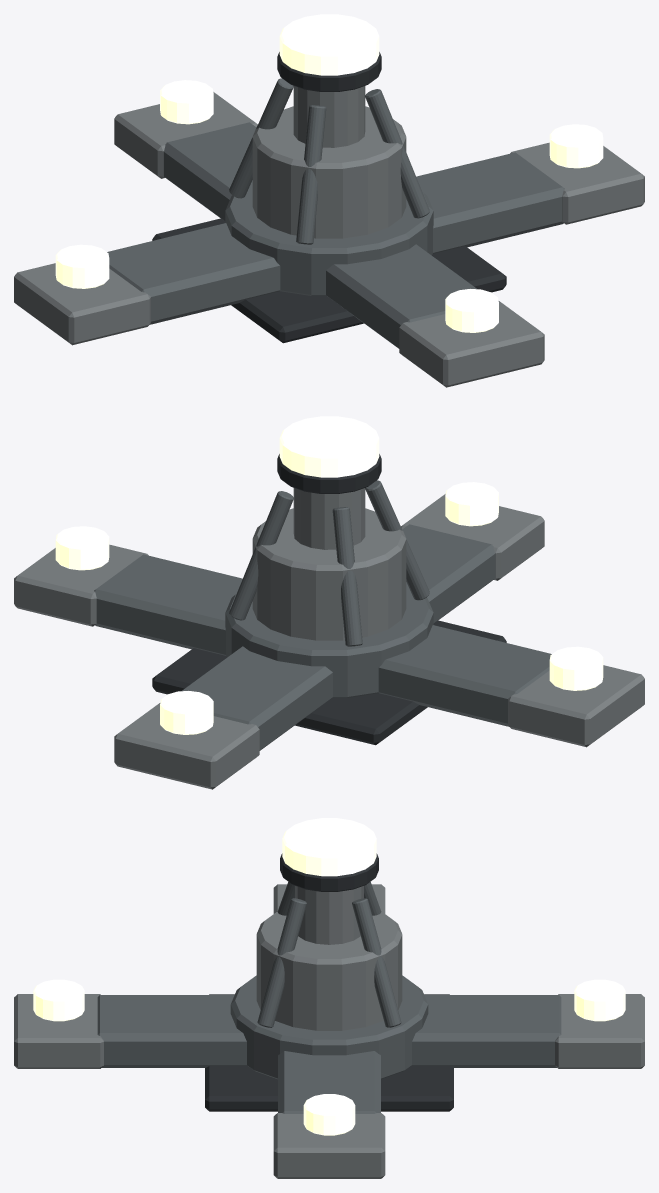
File: AreaProtector.glb
3 views of the same model, one above another, from view 1: azimuth 30°, elevation 25°; view 2: azimuth 150°, elevation 25°; view 3: azimuth 270°, elevation 25° (orthographic). The views are drawn at different scales.
Parts seen in each view (by area): view 1: FTF_Deployable_AreaShield_Generator_Yellow_v3_Static; view 2: FTF_Deployable_AreaShield_Generator_Yellow_v3_Static; view 3: FTF_Deployable_AreaShield_Generator_Yellow_v3_Static.
Part boxes in pixels (x1,y1,x2,y2): FTF_Deployable_AreaShield_Generator_Yellow_v3_Static: (14,14,644,387); FTF_Deployable_AreaShield_Generator_Yellow_v3_Static: (14,416,644,789); FTF_Deployable_AreaShield_Generator_Yellow_v3_Static: (14,818,644,1178).
Size of the model in its own units: 2.94 by 1.15 by 2.94.
